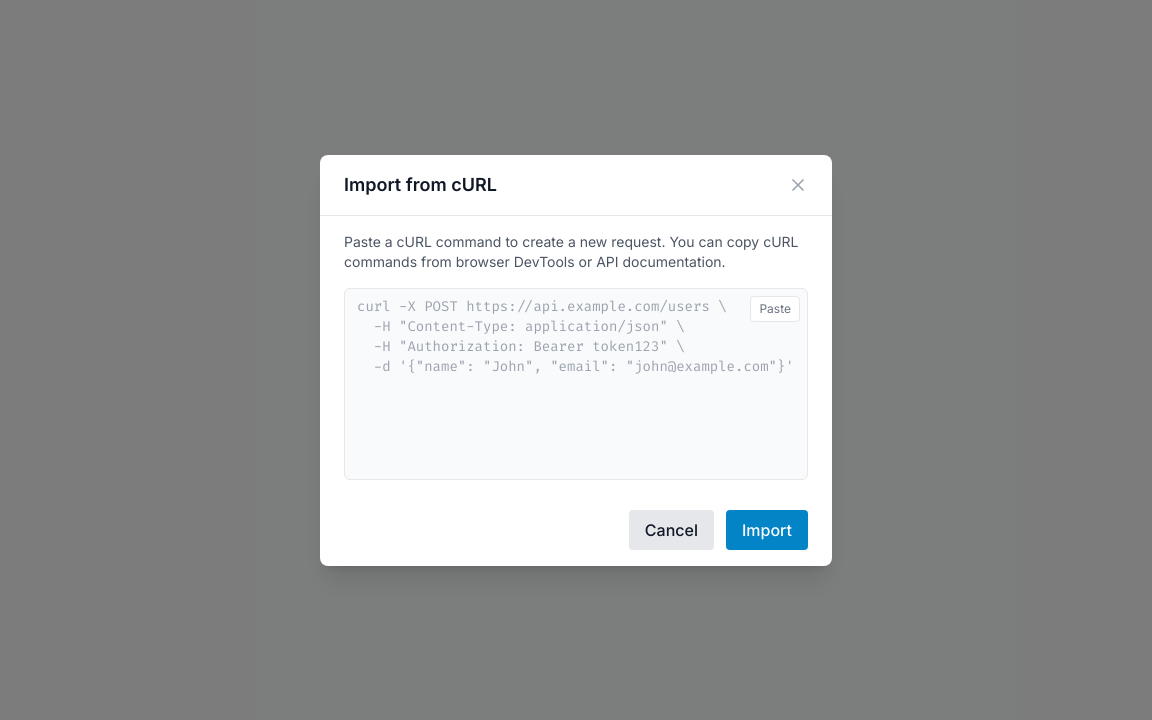
Scenario: ImportCurlDialog › import functionality › should show error message on import failure
Step 1. Type "curl" into the text box with placeholder "curl -X POST" → x=576, y=384, box x1=344 y1=288 x2=808 y2=480
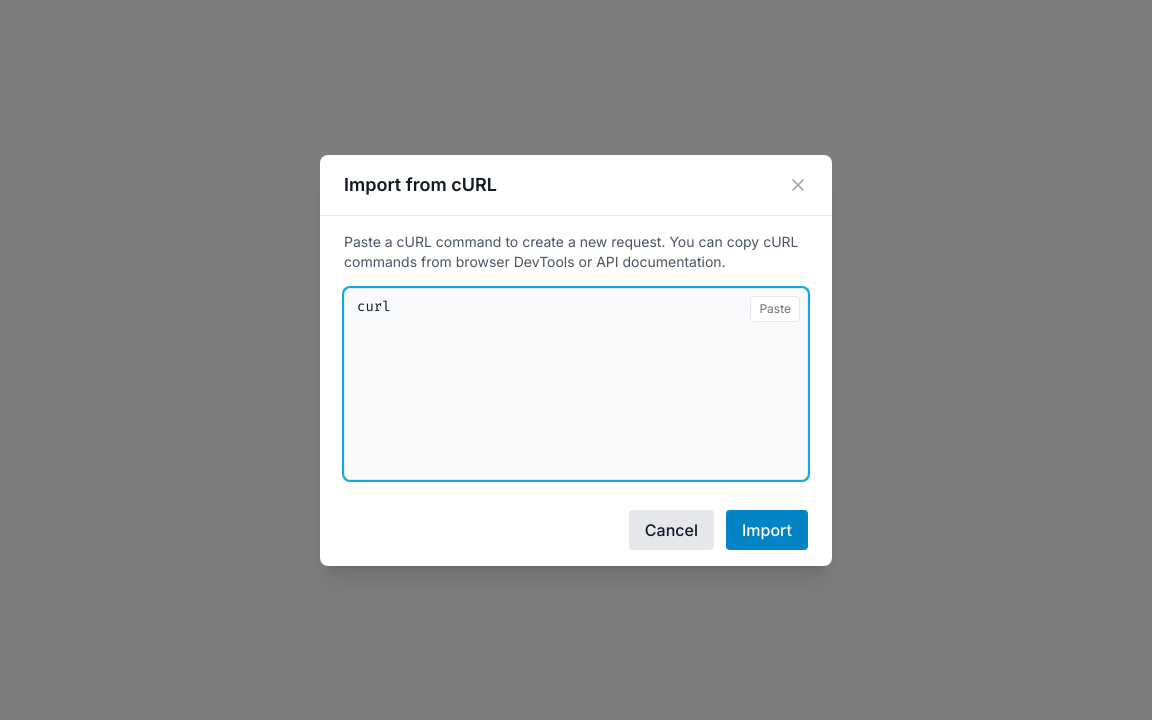
Step 2. Click the button "Import" → x=767, y=530, box x1=726 y1=510 x2=808 y2=550
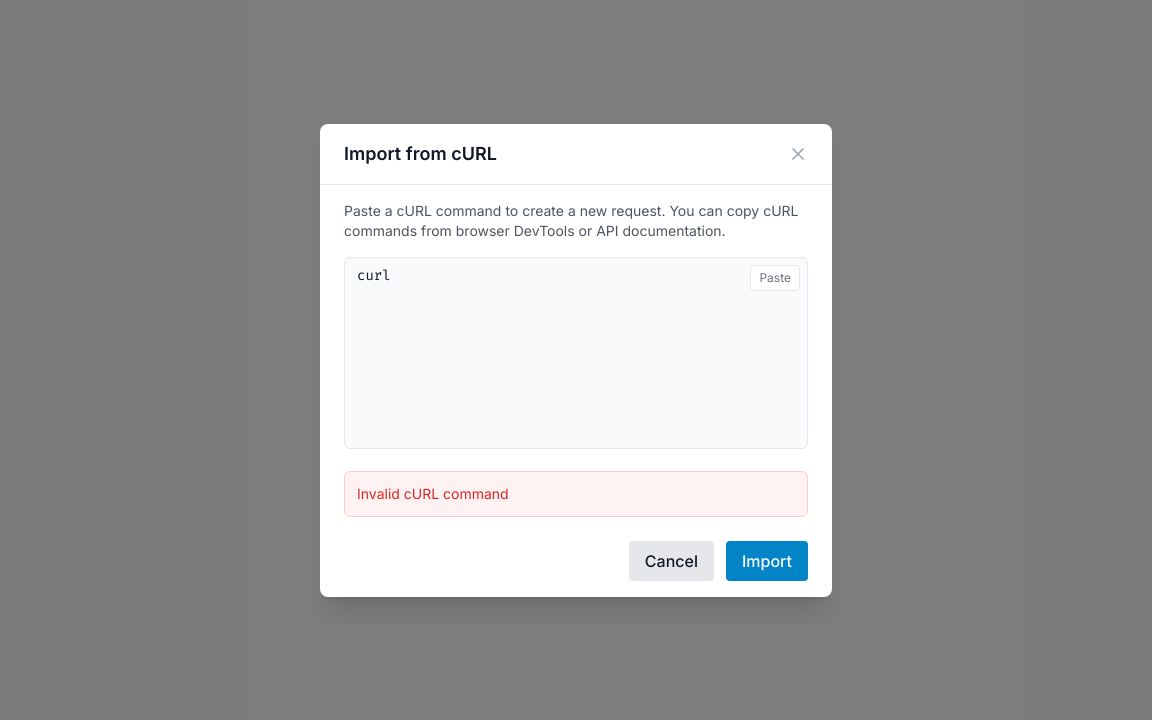
Expected: the text "Invalid cURL command" is shown, x1=344 y1=470 x2=808 y2=516
